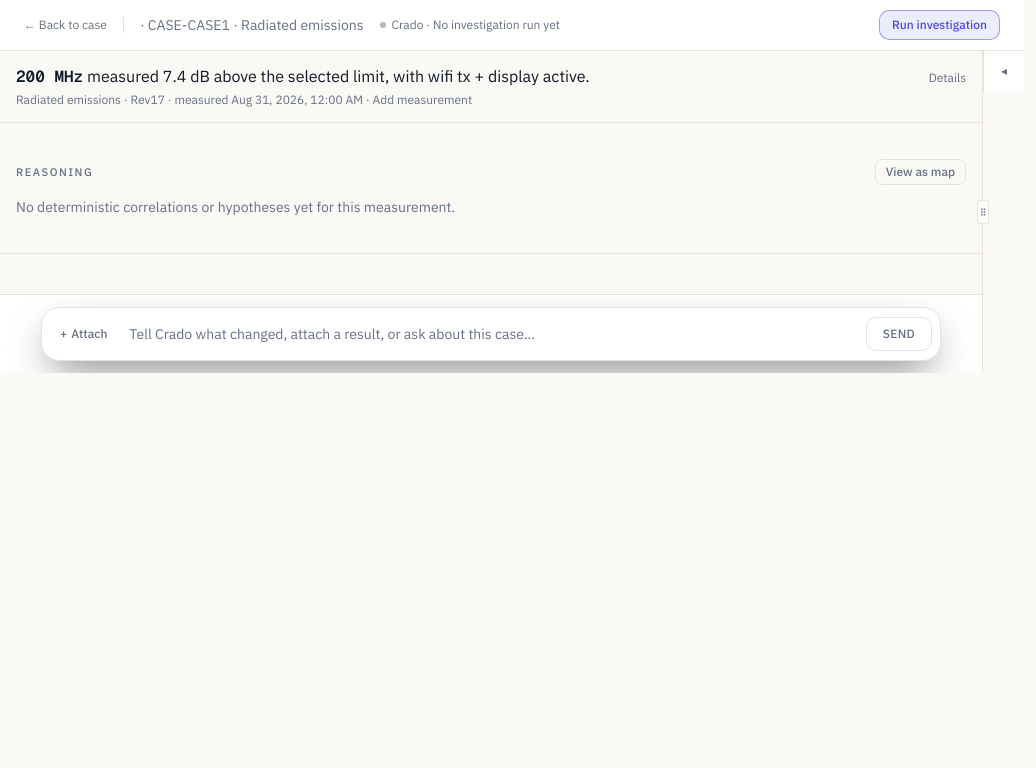
Test: InvestigationWorkspace — streaming › adds React Flow canvas nodes incrementally as events stream in — never empty after completion (UX-04 reopened)
Click the button "View as map" at (920, 172), box left=875, top=159, right=966, bottom=185
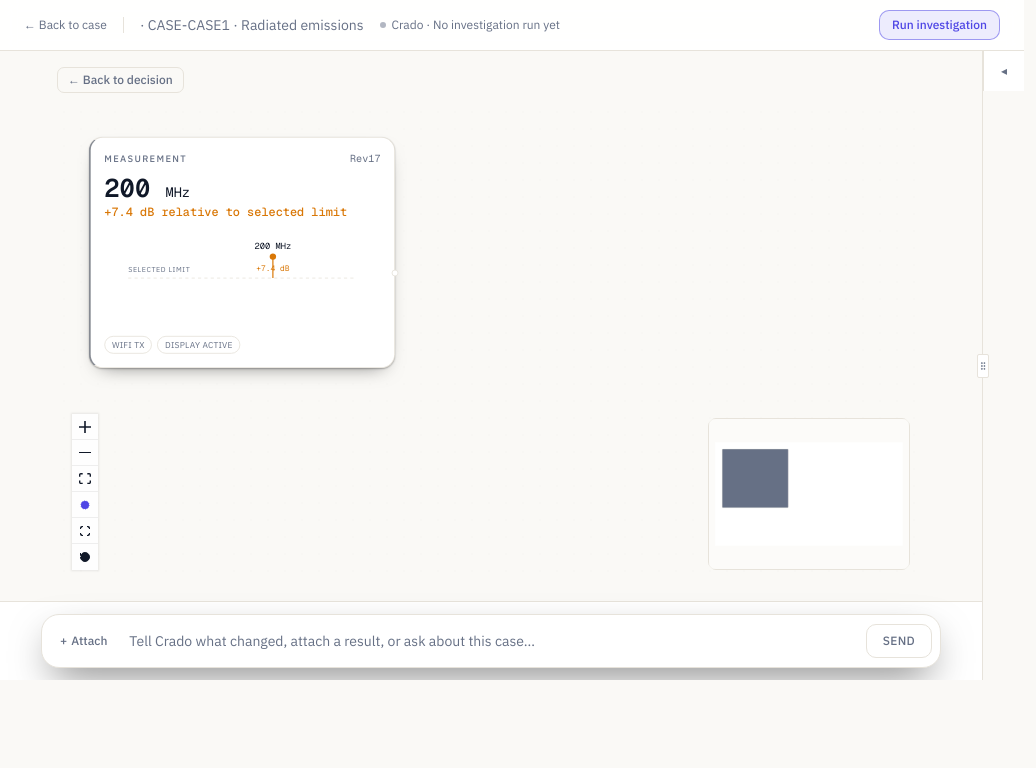
Click the button "Run investigation" at (940, 25), box left=879, top=10, right=1000, bottom=40
(page scrolled)
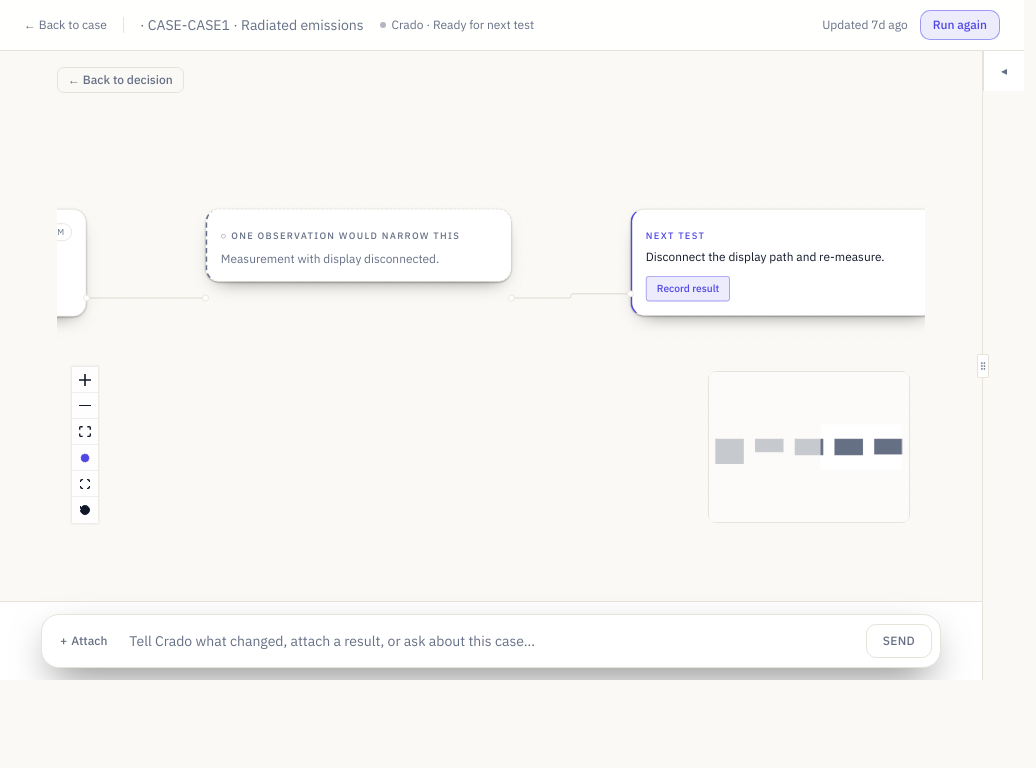
Check: the button "Run again" is shown, box left=920, top=10, right=1000, bottom=40
